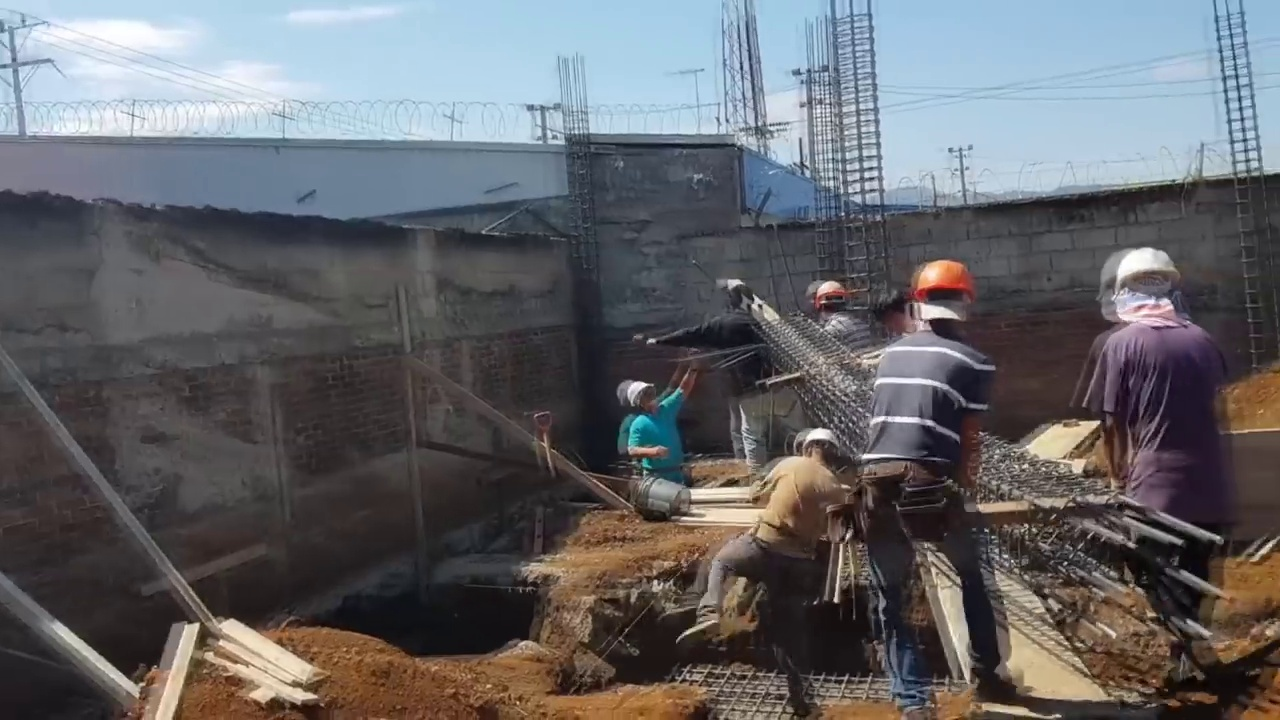helmet: (1106, 242, 1183, 301), (907, 261, 978, 311), (802, 428, 840, 454), (814, 281, 848, 307), (626, 381, 655, 406)
helmet-off: (879, 293, 914, 333), (726, 283, 755, 315)
helmet-on: (1103, 243, 1195, 330), (909, 260, 982, 347), (802, 428, 841, 471), (814, 280, 850, 322), (626, 378, 660, 418)
person: (855, 264, 1013, 688), (1083, 238, 1224, 698), (699, 427, 856, 685), (648, 280, 806, 467), (619, 359, 695, 497), (805, 279, 882, 369)
